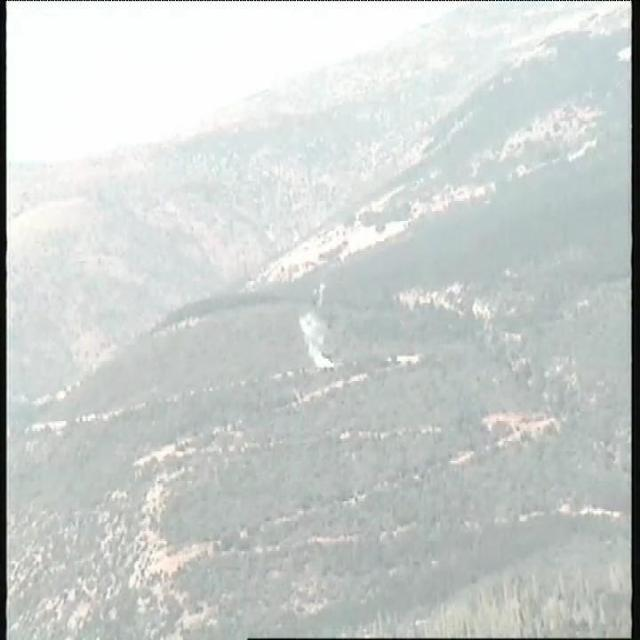Smoke: (298, 309, 332, 375)
